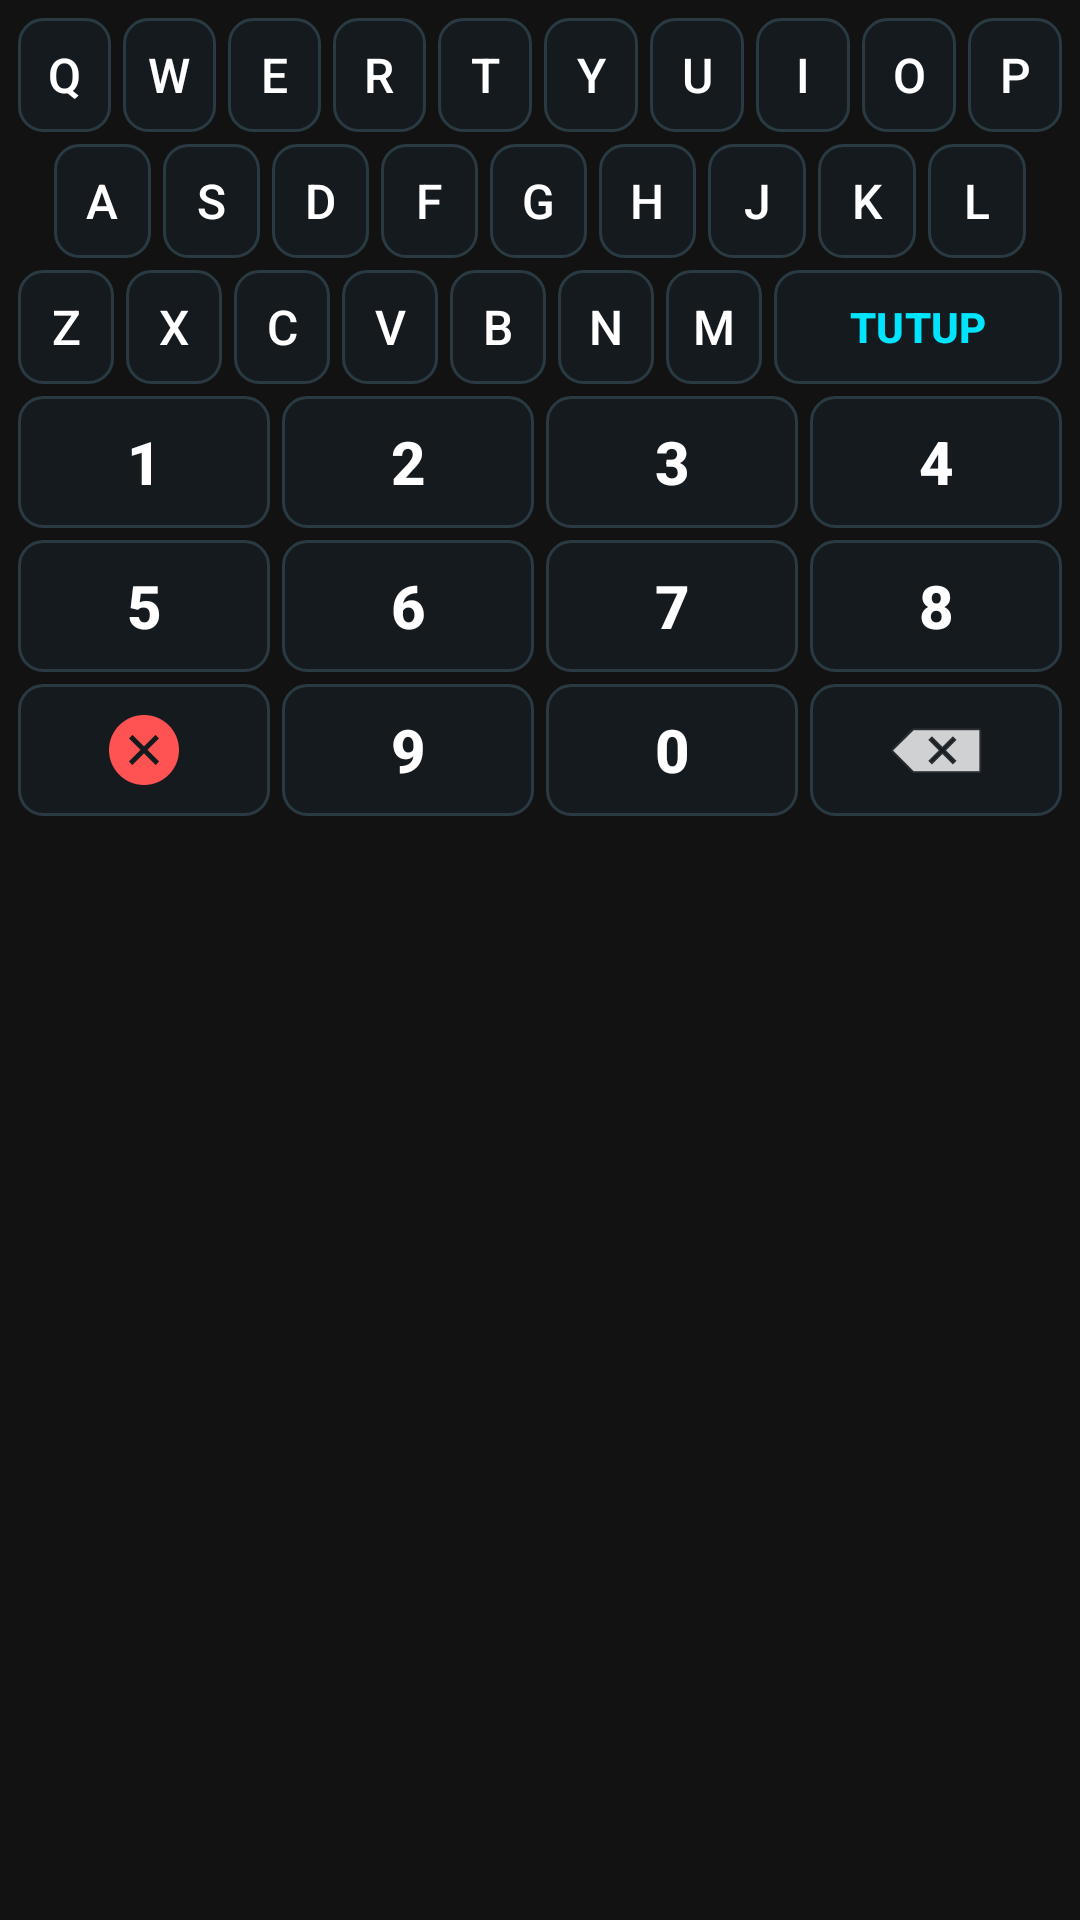

Where to tap for icons on this 1080*1920 app screen, as [x,y]:
clear circle: [144,750]
delete: [936,750]
